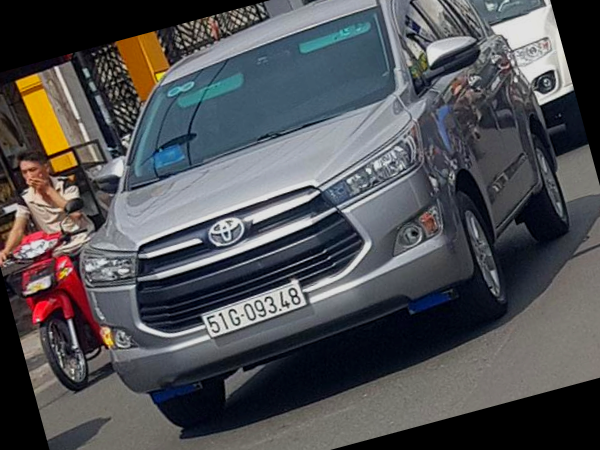lisence: (199, 282, 308, 340)
